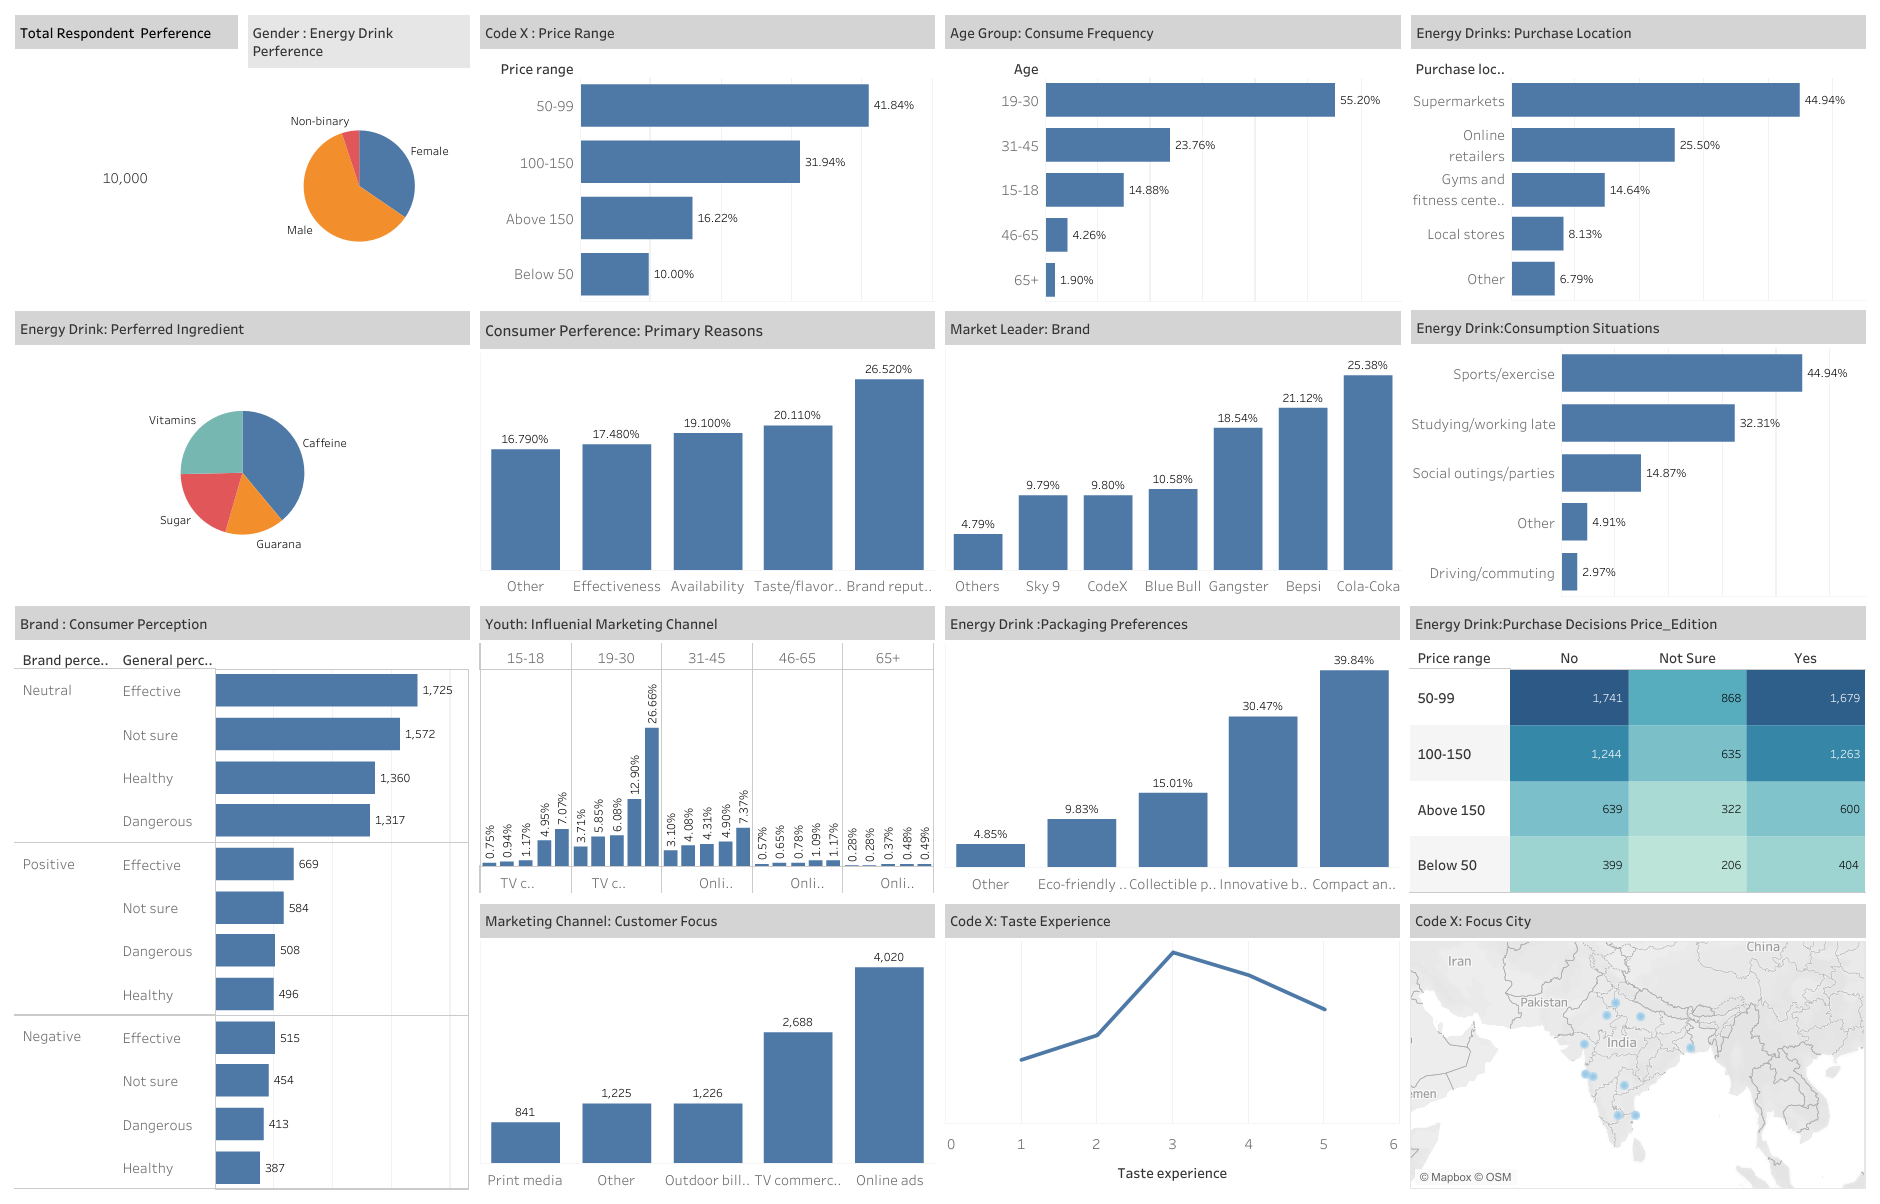

This screenshot's page, from the dashboard's own definition file:
{"tool":"tableau","page":{"name":"Overview","canvas":[1000,1000],"units":"permille","ordinal":1},"visuals":[{"type":"worksheet","title":"Total Respondent ","mark":"Automatic","box":[6,11.8,123.4,244]},{"type":"worksheet","title":"Gender : Energy Drink Perference","mark":"Pie","box":[129.4,11.8,123.4,244]},{"type":"worksheet","title":"Code X : Price Range","mark":"Automatic","rows":["Price_range"],"cols":["Price_range"],"box":[252.8,11.8,247.2,244]},{"type":"worksheet","title":"Age Group: Consume Frequency","mark":"Automatic","rows":["Age"],"box":[500,11.8,246.8,243.6]},{"type":"worksheet","title":"Purchase: Energy Drinks","mark":"Automatic","rows":["Purchase_location"],"cols":["Purchase_location"],"box":[746.8,11.8,247.1,243.6]},{"type":"worksheet","title":"Market Leader: Brand","mark":"Automatic","rows":["Current_brands"],"cols":["Current_brands"],"box":[500,255.4,246.8,243.7]},{"type":"worksheet","title":"Energy Drink:Consumption Situations","mark":"Automatic","rows":["Typical_consumption_situations"],"cols":["Typical_consumption_situations"],"box":[746.8,255.4,247.1,243.7]},{"type":"worksheet","title":"Energy Drink: Perferred Ingredient","mark":"Pie","box":[6,255.7,246.8,243.4]},{"type":"worksheet","title":"Consumer Perference: Primary Reasons","mark":"Automatic","rows":["Reasons_for_choosing_brands"],"cols":["Reasons_for_choosing_brands"],"box":[252.8,255.8,247.2,243.3]},{"type":"worksheet","title":"Brand : Consumer Perception","mark":"Automatic","rows":["Brand_perception","General_perception"],"cols":["Brand_perception"],"box":[6,499.1,246.8,489.1]},{"type":"worksheet","title":"Youth: Influenial Marketing Channel","mark":"Automatic","rows":["Marketing_channels"],"cols":["Age","Marketing_channels"],"box":[252.8,499.1,247,244.9]},{"type":"worksheet","title":"Energy Drink :Packaging Preferences","mark":"Automatic","rows":["Packaging_preference"],"cols":["Packaging_preference"],"box":[499.9,499.1,247,244.9]},{"type":"worksheet","title":"Energy Drink:Purchase Decisions","mark":"Square","rows":["Price_range"],"cols":["Limited_edition_packaging"],"box":[746.8,499.1,247.1,244.9]},{"type":"worksheet","title":"Marketing Channel: Customer Focus","mark":"Automatic","rows":["Marketing_channels"],"cols":["Marketing_channels"],"box":[252.8,744,247,244.2]},{"type":"worksheet","title":"Code X: Taste Experience","mark":"Automatic","rows":["Taste_experience"],"cols":["Taste_experience"],"box":[499.9,744,247,244.2]},{"type":"worksheet","title":"Code X: Focus City","mark":"Heatmap","box":[746.8,744,247.1,244.2]}]}

Visuals, with their boxes on the dashboard's canvas, which has no fixed pixel size, in thousandths of its width and height (x1, y1, x2, y2). These are canvas units, not pixel positions in the 1880x1204 screenshot, which may show the page scaled, cropped or inside an application window:
"Total Respondent " worksheet: box(6, 12, 129, 256)
"Gender : Energy Drink Perference" worksheet (Pie marks): box(129, 12, 253, 256)
"Code X : Price Range" worksheet: box(253, 12, 500, 256)
"Age Group: Consume Frequency" worksheet: box(500, 12, 747, 255)
"Purchase: Energy Drinks" worksheet: box(747, 12, 994, 255)
"Market Leader: Brand" worksheet: box(500, 255, 747, 499)
"Energy Drink:Consumption Situations" worksheet: box(747, 255, 994, 499)
"Energy Drink: Perferred Ingredient" worksheet (Pie marks): box(6, 256, 253, 499)
"Consumer Perference: Primary Reasons" worksheet: box(253, 256, 500, 499)
"Brand : Consumer Perception" worksheet: box(6, 499, 253, 988)
"Youth: Influenial Marketing Channel" worksheet: box(253, 499, 500, 744)
"Energy Drink :Packaging Preferences" worksheet: box(500, 499, 747, 744)
"Energy Drink:Purchase Decisions" worksheet (Square marks): box(747, 499, 994, 744)
"Marketing Channel: Customer Focus" worksheet: box(253, 744, 500, 988)
"Code X: Taste Experience" worksheet: box(500, 744, 747, 988)
"Code X: Focus City" worksheet (Heatmap marks): box(747, 744, 994, 988)
